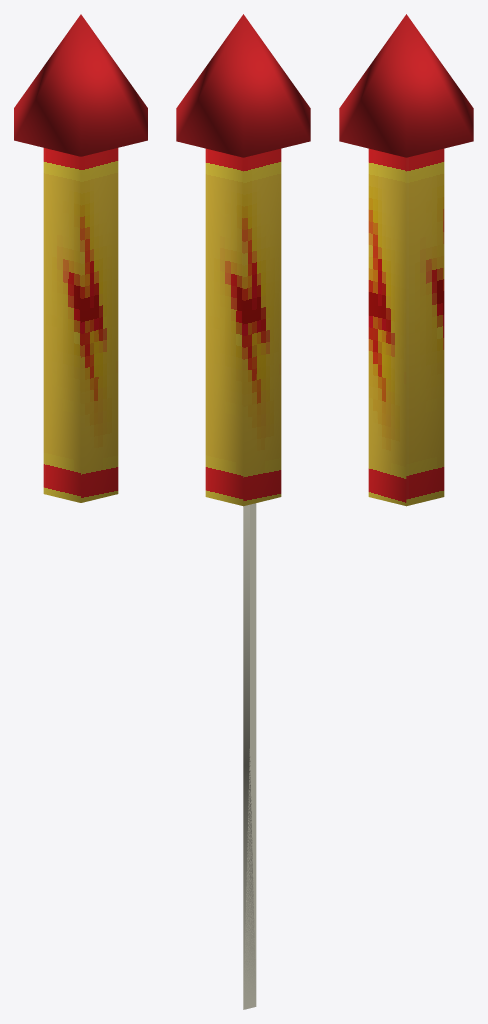
The model's file is firework.fbx.
3 views of the same model, side by side, from view 1: azimuth 90°, elevation 25°; view 2: azimuth 210°, elevation 25°; view 3: azimuth 270°, elevation 25° (orthographic).
Visible parts, largest first — view 1: Mesh; view 2: Mesh; view 3: Mesh.
Part boxes in pixels (<box>): Mesh: <box>14,14,147,502</box>; Mesh: <box>176,14,310,1009</box>; Mesh: <box>339,14,473,506</box>.
Bounding box in the file's own units: 20 × 141 × 17.32.
